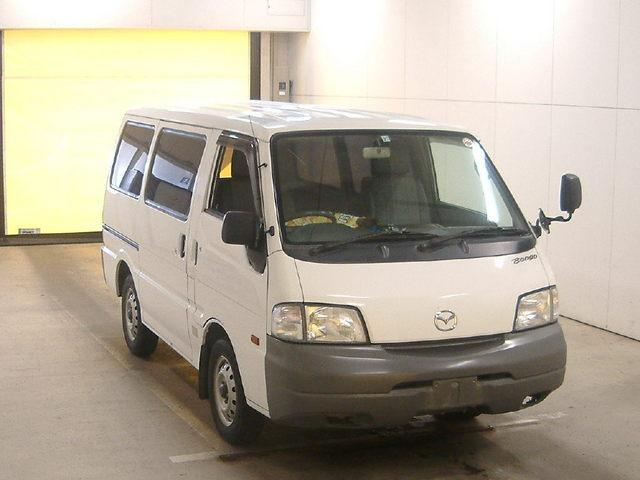van: (97, 108, 576, 441)
